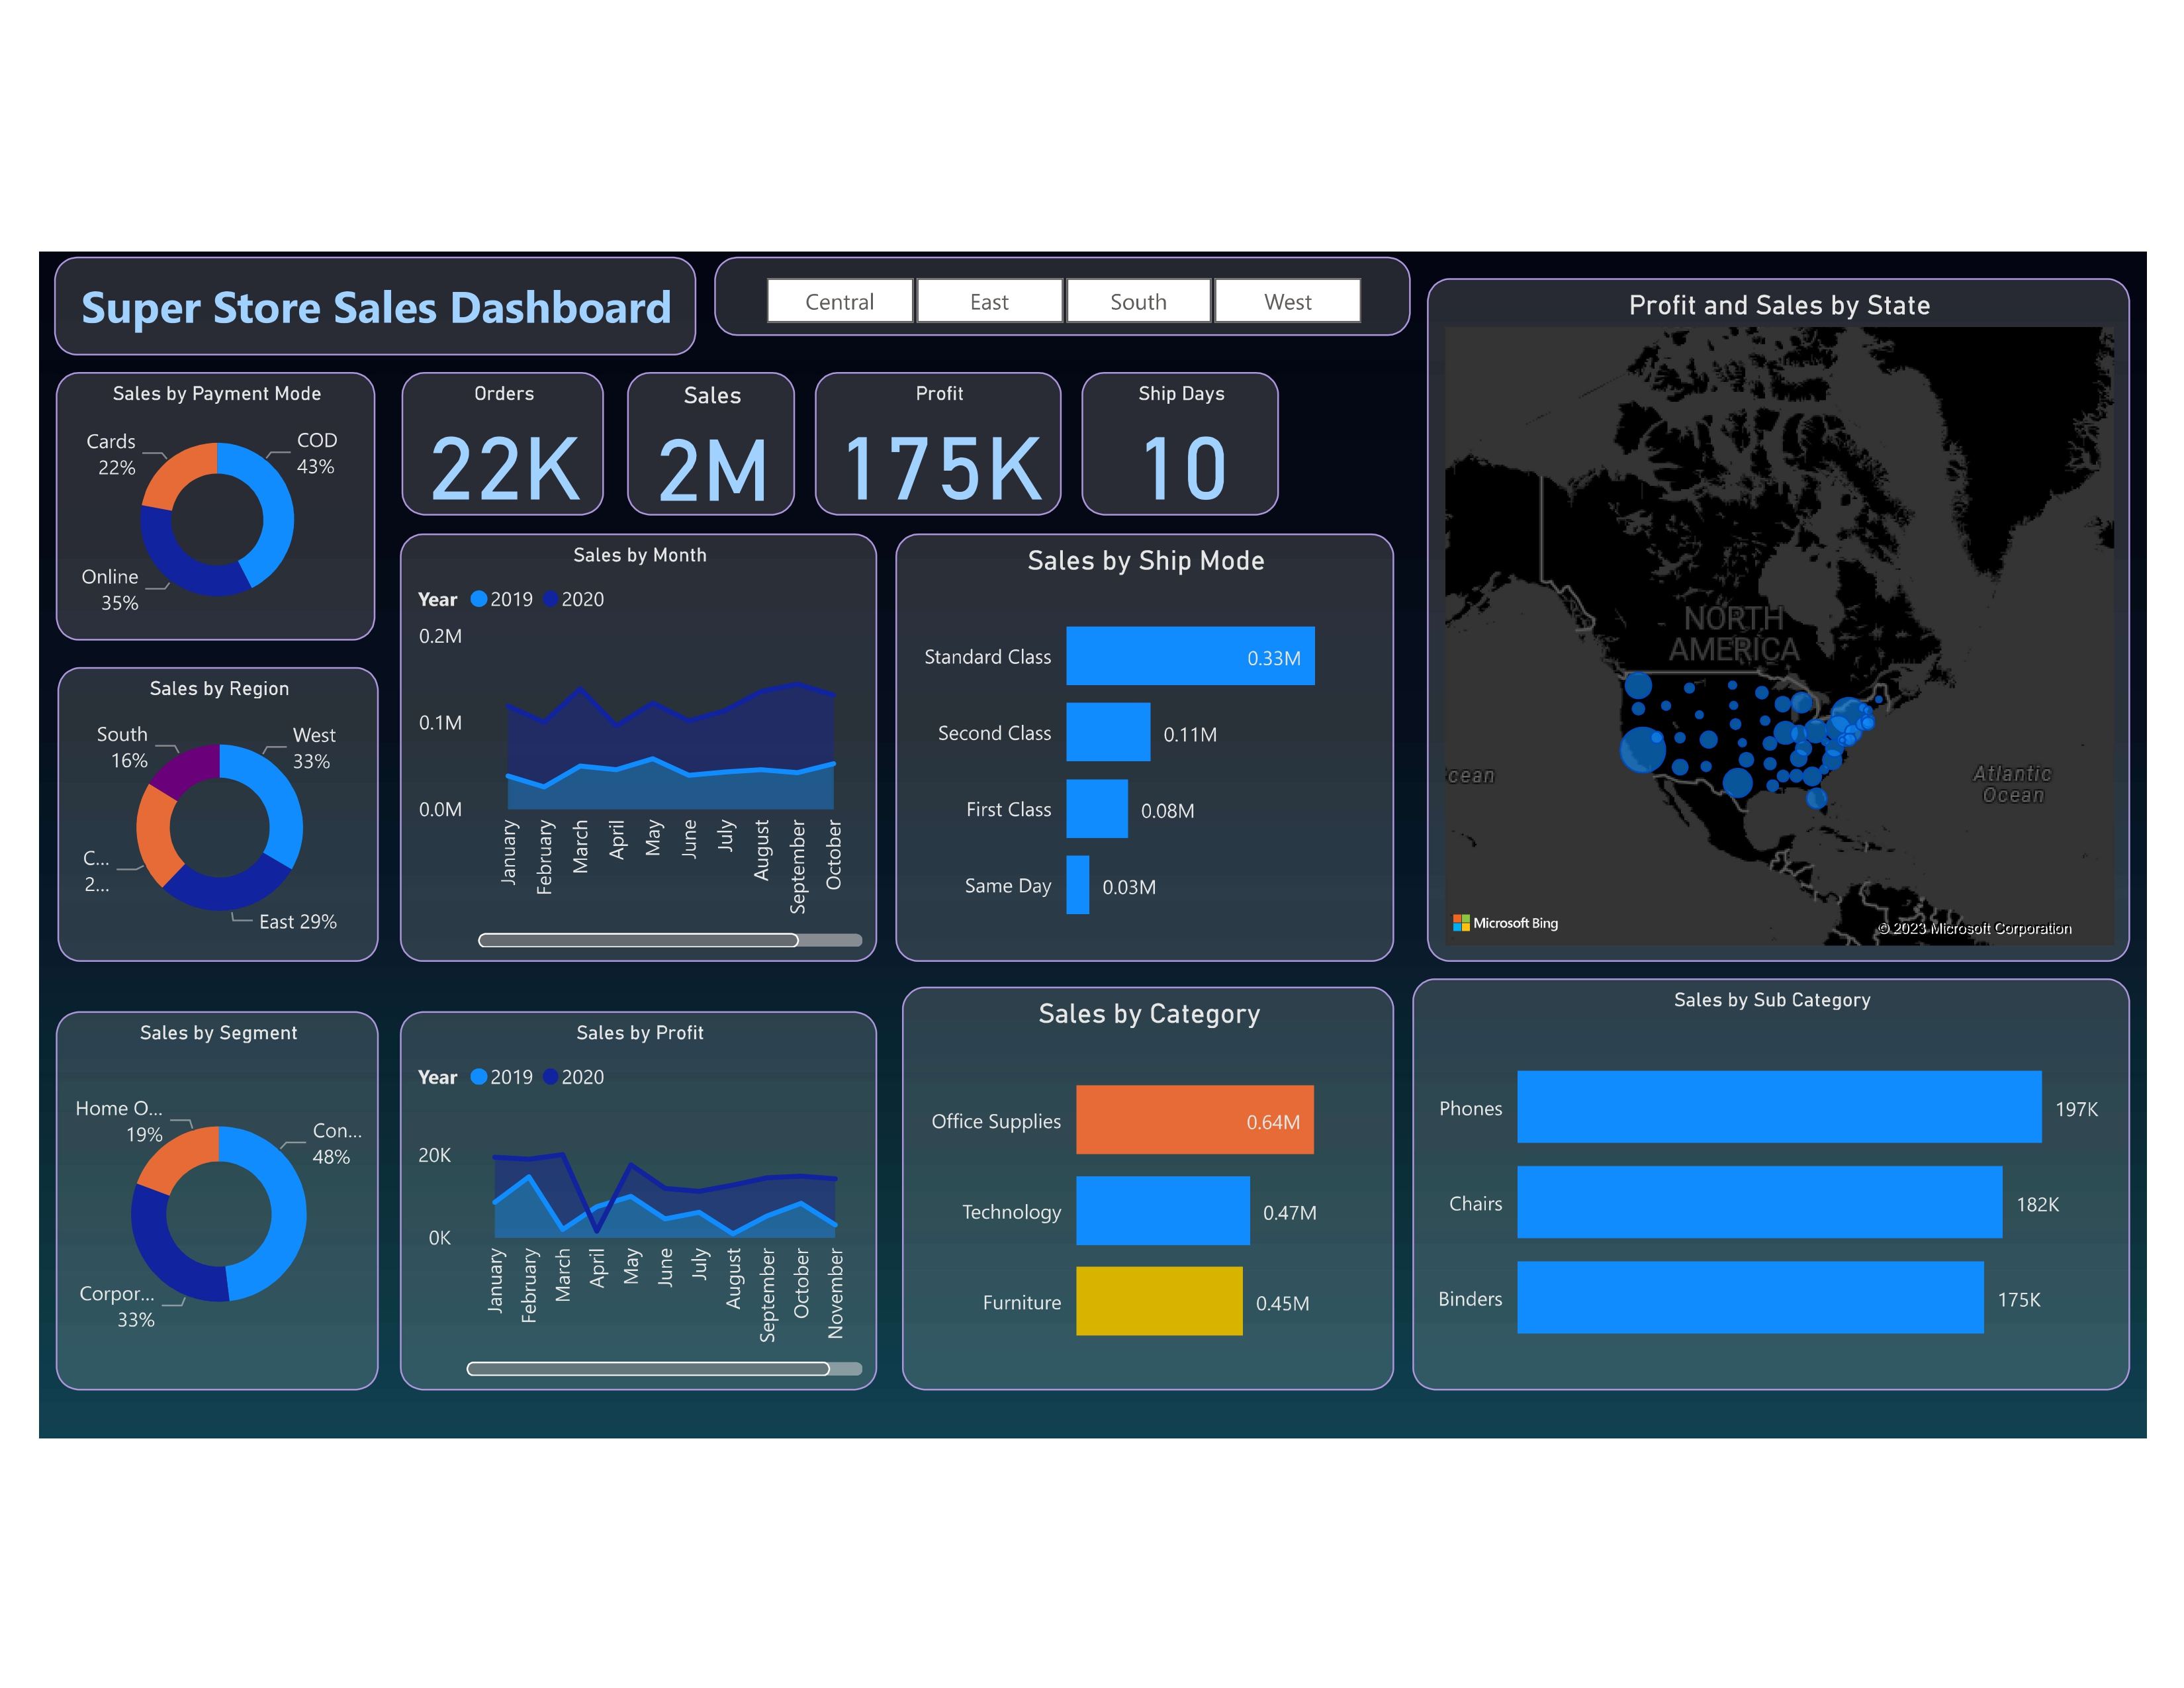

The page's visual inventory and layout, read from the dashboard file:
{"tool":"powerbi","page":{"name":"Page 1","canvas":[1280,720],"ordinal":0},"visuals":[{"type":"clusteredBarChart","title":"Sales by Category","fields":{"Category":["SuperStore_Sales_Dataset (1).Category"],"Y":["Sum(SuperStore_Sales_Dataset (1).Sales)"]},"box":[523.7,445.6,298.9,245.4],"z":0},{"type":"clusteredBarChart","title":"Sales by Sub Category","fields":{"Category":["SuperStore_Sales_Dataset (1).Sub-Category"],"Y":["Sum(SuperStore_Sales_Dataset (1).Sales)"]},"box":[833.6,441.5,436,249.5],"z":1000},{"type":"clusteredBarChart","title":"Sales by Ship Mode","fields":{"Category":["SuperStore_Sales_Dataset (1).Ship Mode"],"Y":["Sum(SuperStore_Sales_Dataset (1).Sales)"]},"box":[519.6,171.4,303,259.1],"z":2000},{"type":"stackedAreaChart","title":"Sales by Month","fields":{"Y":["Sum(SuperStore_Sales_Dataset (1).Sales)"],"Category":["SuperStore_Sales_Dataset (1).Order Date.Variation.Date Hierarchy.Month","SuperStore_Sales_Dataset (1).Order Date.Variation.Date Hierarchy.Day"],"Series":["SuperStore_Sales_Dataset (1).Order Date.Variation.Date Hierarchy.Year"]},"box":[219.4,171.4,289.3,259.1],"z":3000},{"type":"stackedAreaChart","title":"Sales by Profit","fields":{"Category":["SuperStore_Sales_Dataset (1).Order Date.Variation.Date Hierarchy.Month","SuperStore_Sales_Dataset (1).Order Date.Variation.Date Hierarchy.Day"],"Series":["SuperStore_Sales_Dataset (1).Order Date.Variation.Date Hierarchy.Year"],"Y":["Sum(SuperStore_Sales_Dataset (1).Profit)"]},"box":[219.4,460.7,289.3,230.3],"z":4000},{"type":"map","title":"Profit and Sales by State","fields":{"Category":["SuperStore_Sales_Dataset (1).State"],"Size":["Sum(SuperStore_Sales_Dataset (1).Sales)"]},"box":[843.2,16.5,426.4,414.1],"z":5000},{"type":"donutChart","title":"Sales by Segment","fields":{"Category":["SuperStore_Sales_Dataset (1).Segment"],"Y":["Sum(SuperStore_Sales_Dataset (1).Sales)"]},"box":[10,461,194,230],"z":6000},{"type":"donutChart","title":" Sales by Payment Mode","fields":{"Category":["SuperStore_Sales_Dataset (1).Payment Mode"],"Y":["Sum(SuperStore_Sales_Dataset (1).Sales)"]},"box":[9.6,72.7,194.7,163.2],"z":7000},{"type":"slicer","fields":{"Values":["SuperStore_Sales_Dataset (1).Region"]},"box":[410,3,423,48],"z":8000},{"type":"textbox","box":[9,3,390,60],"z":9000},{"type":"card","title":"Sales","fields":{"Values":["Sum(SuperStore_Sales_Dataset (1).Sales)"]},"box":[357,73,102,87],"z":10000},{"type":"card","title":"Orders","fields":{"Values":["Sum(SuperStore_Sales_Dataset (1).Quantity)"]},"box":[220,73,123,87],"z":11000},{"type":"card","title":"Profit","fields":{"Values":["Sum(SuperStore_Sales_Dataset (1).Profit)"]},"box":[471,73,150,87],"z":12000},{"type":"card","title":"Ship Days","fields":{"Values":["Avg(SuperStore_Sales_Dataset (1).AvgDelivery)"]},"box":[633,73,120,87],"z":13000},{"type":"donutChart","title":"Sales by Region","fields":{"Category":["SuperStore_Sales_Dataset (1).Region"],"Y":["Sum(SuperStore_Sales_Dataset (1).Sales)"]},"box":[11,252.3,194.7,178.2],"z":14000}]}

Visuals, with their boxes on the page's 1280x720 design canvas (x1, y1, x2, y2). These are canvas units, not pixel positions in the 2184x1688 screenshot, which may show the page scaled, cropped or inside an application window:
"Sales by Category" clusteredBarChart: box=[524, 446, 823, 691]
"Sales by Sub Category" clusteredBarChart: box=[834, 442, 1270, 691]
"Sales by Ship Mode" clusteredBarChart: box=[520, 171, 823, 430]
"Sales by Month" stackedAreaChart: box=[219, 171, 509, 430]
"Sales by Profit" stackedAreaChart: box=[219, 461, 509, 691]
"Profit and Sales by State" map: box=[843, 16, 1270, 431]
"Sales by Segment" donutChart: box=[10, 461, 204, 691]
" Sales by Payment Mode" donutChart: box=[10, 73, 204, 236]
slicer - SuperStore_Sales_Dataset (1).Region: box=[410, 3, 833, 51]
textbox: box=[9, 3, 399, 63]
"Sales" card: box=[357, 73, 459, 160]
"Orders" card: box=[220, 73, 343, 160]
"Profit" card: box=[471, 73, 621, 160]
"Ship Days" card: box=[633, 73, 753, 160]
"Sales by Region" donutChart: box=[11, 252, 206, 430]
